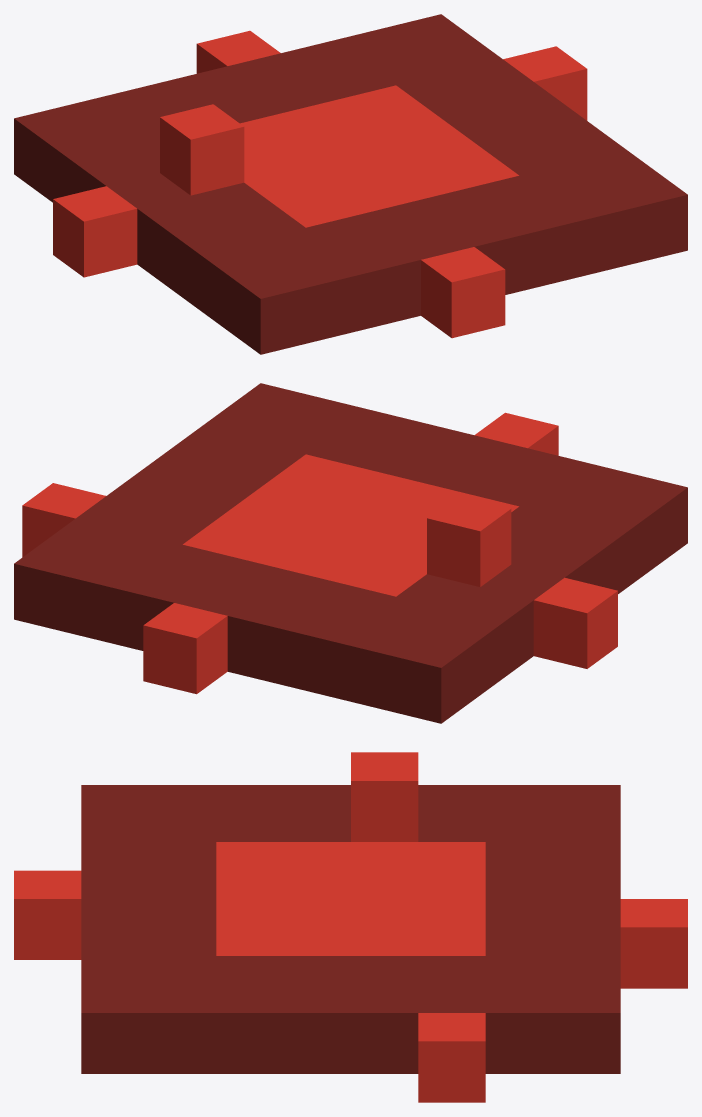
The model's file is fx_blood.glb.
The picture shows the model from 3 angles, top to bottom: view 1: azimuth 30°, elevation 25°; view 2: azimuth 150°, elevation 25°; view 3: azimuth 270°, elevation 25°; orthographic projection. The views are drawn at different scales.
Visible parts, largest first — view 1: Pool mesh, Drop mesh; view 2: Pool mesh, Drop mesh; view 3: Pool mesh, Drop mesh.
Boxes of the visible parts, bbox=[...] form: Pool mesh: bbox=[14, 14, 687, 354]; Drop mesh: bbox=[53, 30, 587, 338]; Pool mesh: bbox=[14, 383, 687, 723]; Drop mesh: bbox=[22, 412, 617, 694]; Pool mesh: bbox=[81, 785, 620, 1073]; Drop mesh: bbox=[14, 752, 687, 1102].
Size of the model in its own units: 10 by 2 by 10.
1 material, 1 textured.
